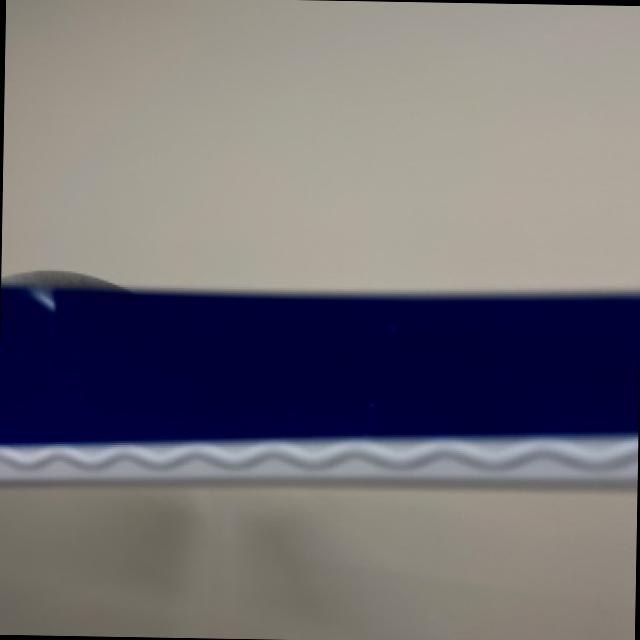healthy: (0, 282, 635, 479)
